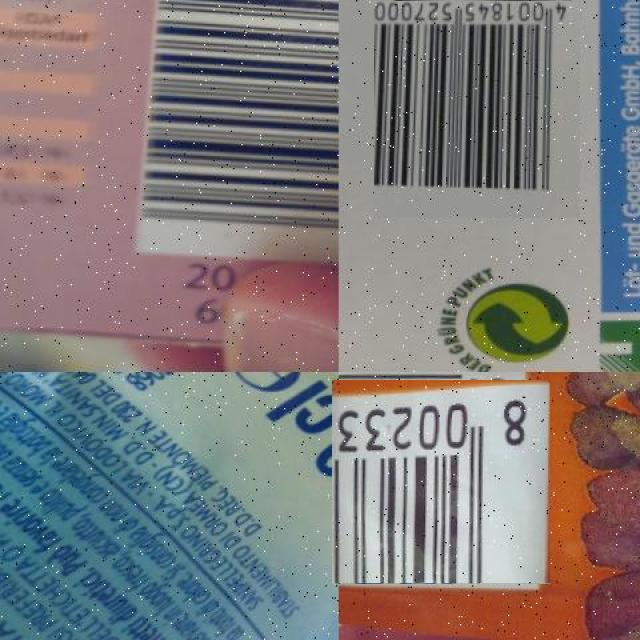Barcode: (124, 0, 339, 272), (367, 0, 585, 213), (335, 376, 546, 587), (101, 372, 339, 464)
